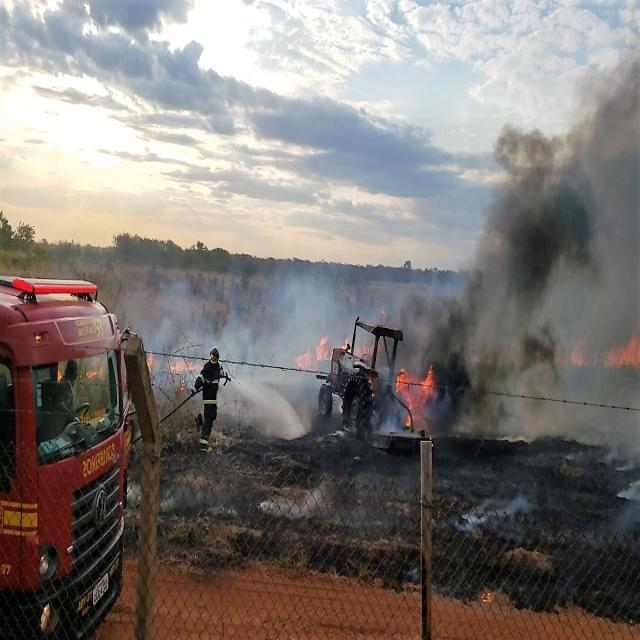Fire: (398, 364, 450, 432), (570, 328, 640, 368), (159, 356, 203, 392), (296, 335, 333, 368), (146, 350, 156, 380)
Smoke: (471, 72, 640, 325), (150, 272, 350, 332), (453, 331, 568, 435), (402, 294, 471, 364)
